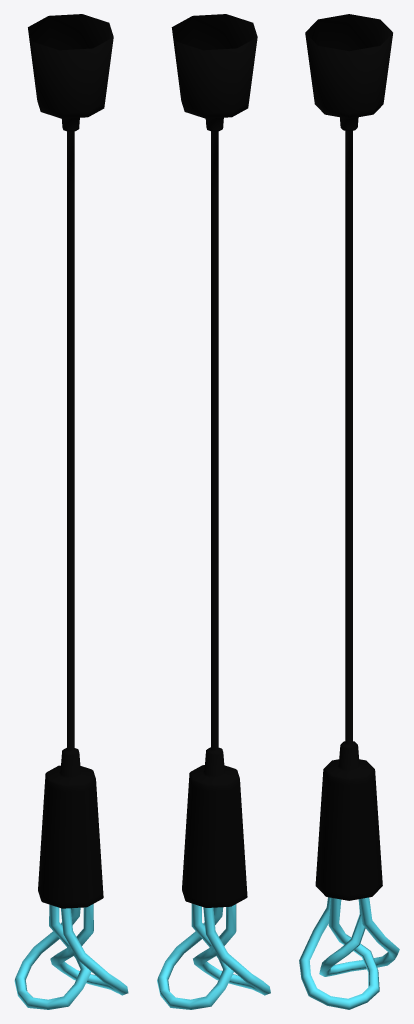
File: SM_Pendantlight_007_A.FBX
3 renders of one model, left to right at view 1: azimuth 30°, elevation 25°; view 2: azimuth 210°, elevation 25°; view 3: azimuth 270°, elevation 25°, orthographic.
Parts seen in each view (by area): view 1: SM_Pendantlight_007_A; view 2: SM_Pendantlight_007_A; view 3: SM_Pendantlight_007_A.
Part boxes in pixels (box(x1,y1,x2,y2)): SM_Pendantlight_007_A: box(14, 14, 128, 1009); SM_Pendantlight_007_A: box(157, 14, 270, 1009); SM_Pendantlight_007_A: box(299, 14, 399, 1009).
Bounding box in the file's own units: 13.63 × 13.67 × 143.
